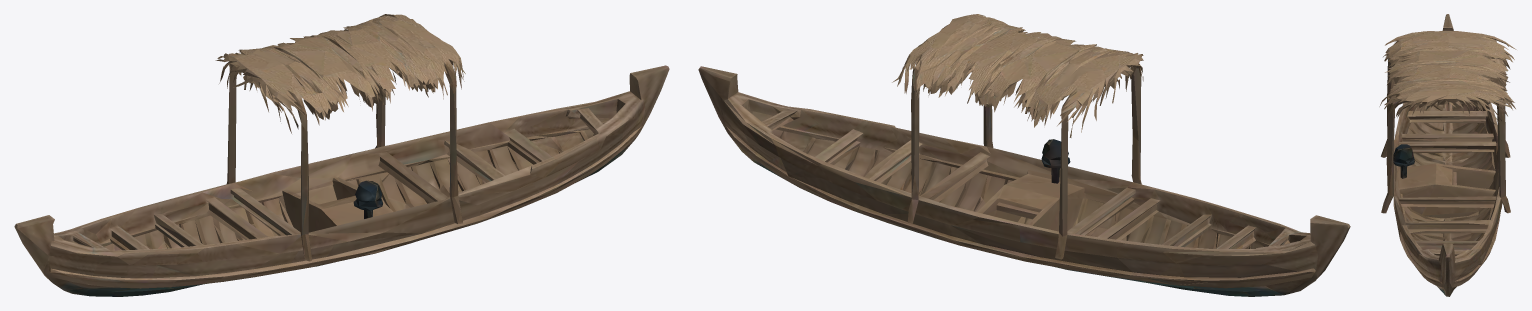
The model's file is scene_longboat.glb.
3 views of the same model, side by side, from view 1: azimuth 30°, elevation 25°; view 2: azimuth 150°, elevation 25°; view 3: azimuth 270°, elevation 25° (orthographic). The views are drawn at different scales.
Size of the model in its own units: 1.9 by 0.5562 by 0.4614.
1 material, 1 textured.
